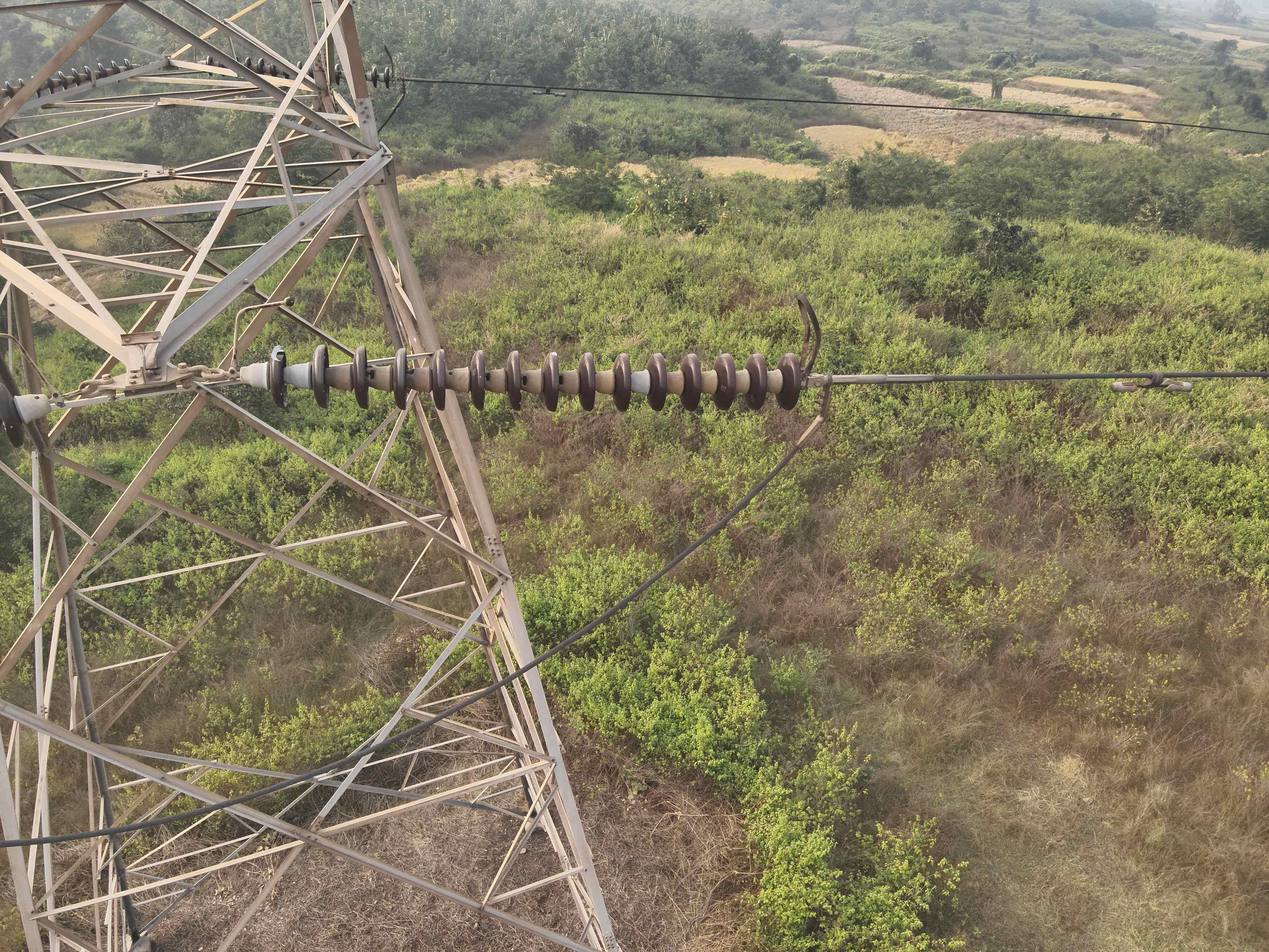broken_insulator: (268, 342, 293, 409)
